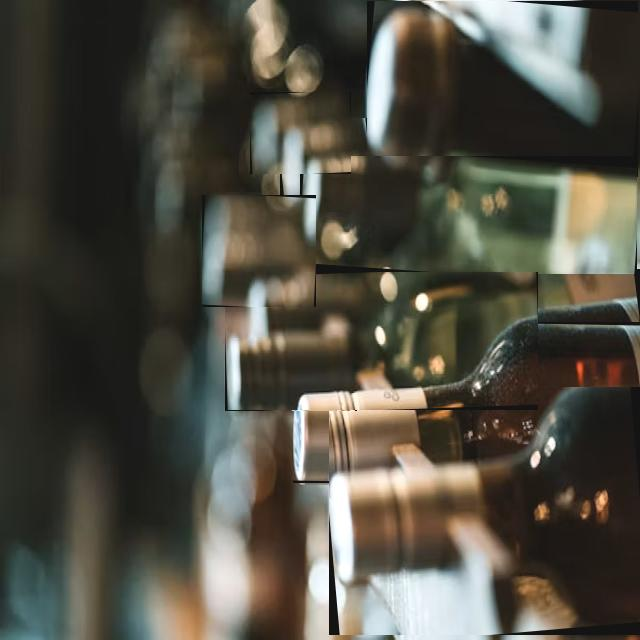Bottle: (329, 388, 639, 635), (227, 269, 639, 406), (294, 322, 639, 483), (367, 18, 637, 177), (300, 157, 636, 273), (226, 309, 392, 409), (202, 196, 316, 307), (300, 156, 418, 257), (226, 328, 357, 411), (249, 264, 385, 334), (250, 92, 350, 174), (280, 119, 369, 201)
